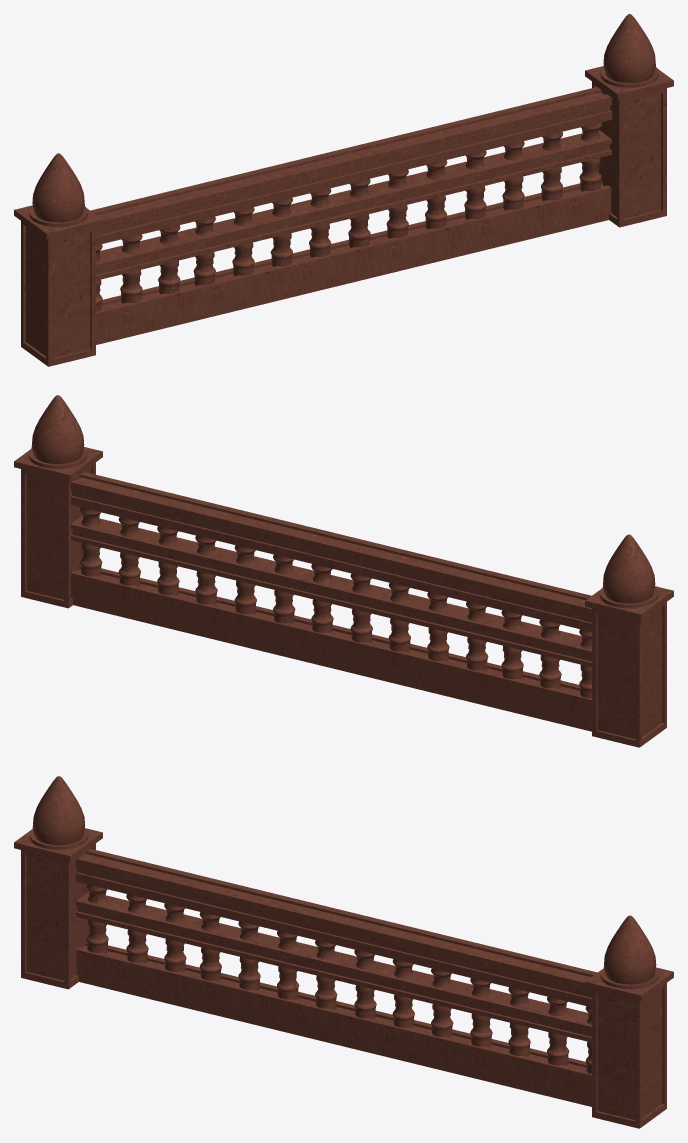
The model's file is FBXfence.fbx.
3 views of the same model, one above another, from view 1: azimuth 30°, elevation 25°; view 2: azimuth 150°, elevation 25°; view 3: azimuth 330°, elevation 25° (orthographic).
Parts seen in each view (by area): view 1: Fence; view 2: Fence; view 3: Fence.
Part boxes in pixels (x1,y1,x2,y2): Fence: [14, 14, 673, 366]; Fence: [14, 395, 673, 747]; Fence: [14, 776, 673, 1128].
Size of the model in its own units: 2.02 by 0.6087 by 0.182.
1 material, 1 textured.
